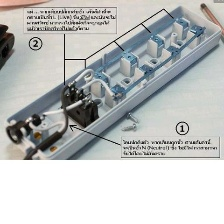three_eye_plug: (2, 3, 222, 167)
